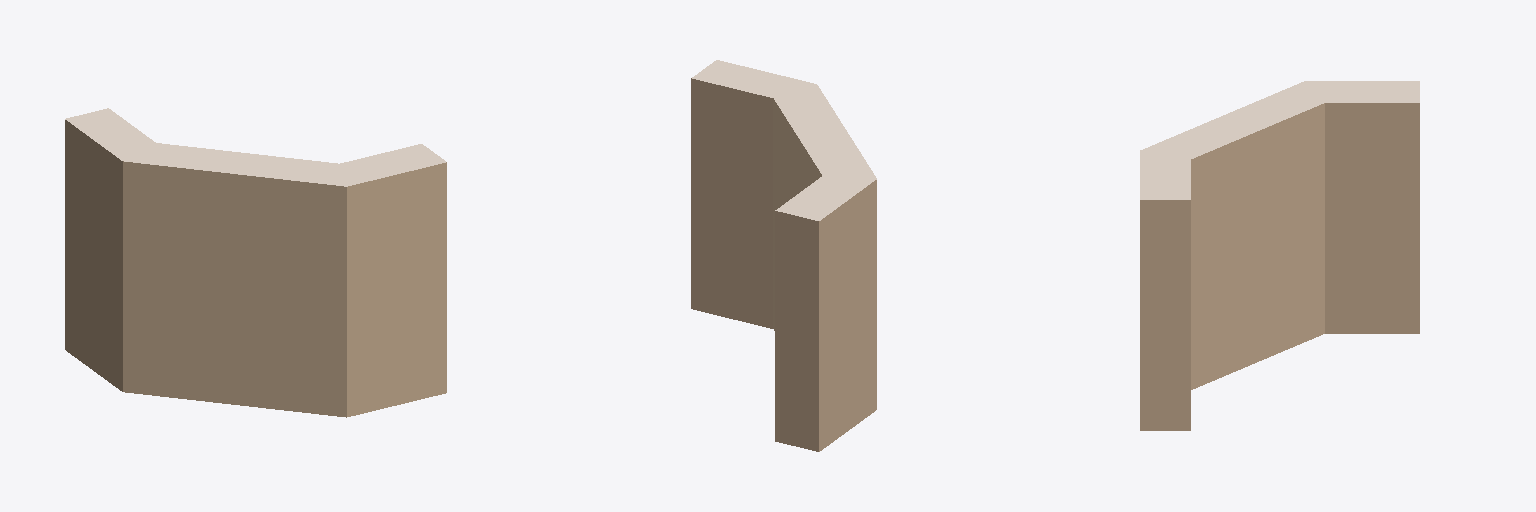
Rendered from Wall_Curved_Small_Middle.obj.
The picture shows the model from 3 angles: view 1: azimuth 30°, elevation 25°; view 2: azimuth 150°, elevation 25°; view 3: azimuth 270°, elevation 25°; orthographic projection.
Visible parts, largest first — view 1: object1; view 2: object1; view 3: object1.
Part boxes in pixels (bbox=[...]): object1: bbox=[65, 108, 446, 417]; object1: bbox=[691, 60, 876, 451]; object1: bbox=[1140, 81, 1419, 430].
Size of the model in its own units: 1.1 by 1 by 1.1.